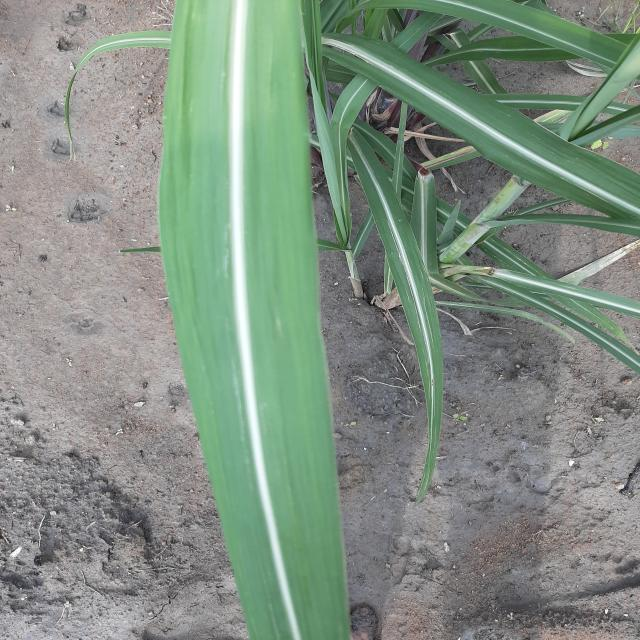Sugarcane: (62, 1, 638, 638)
